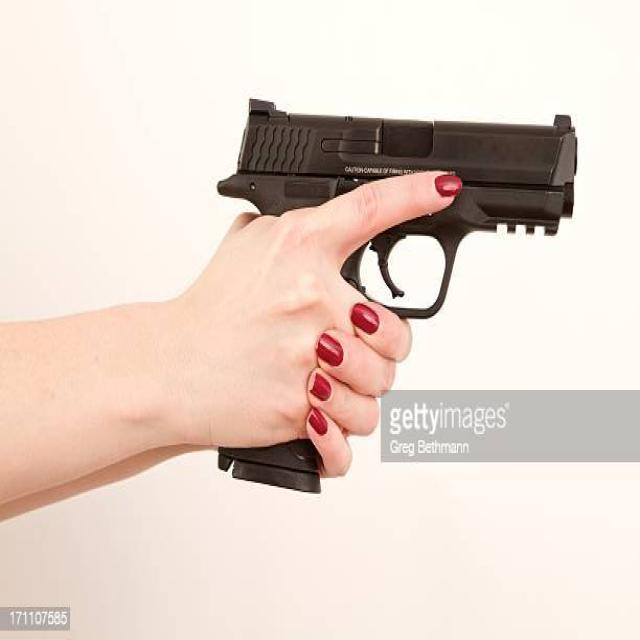HandGun: (216, 99, 578, 319)
